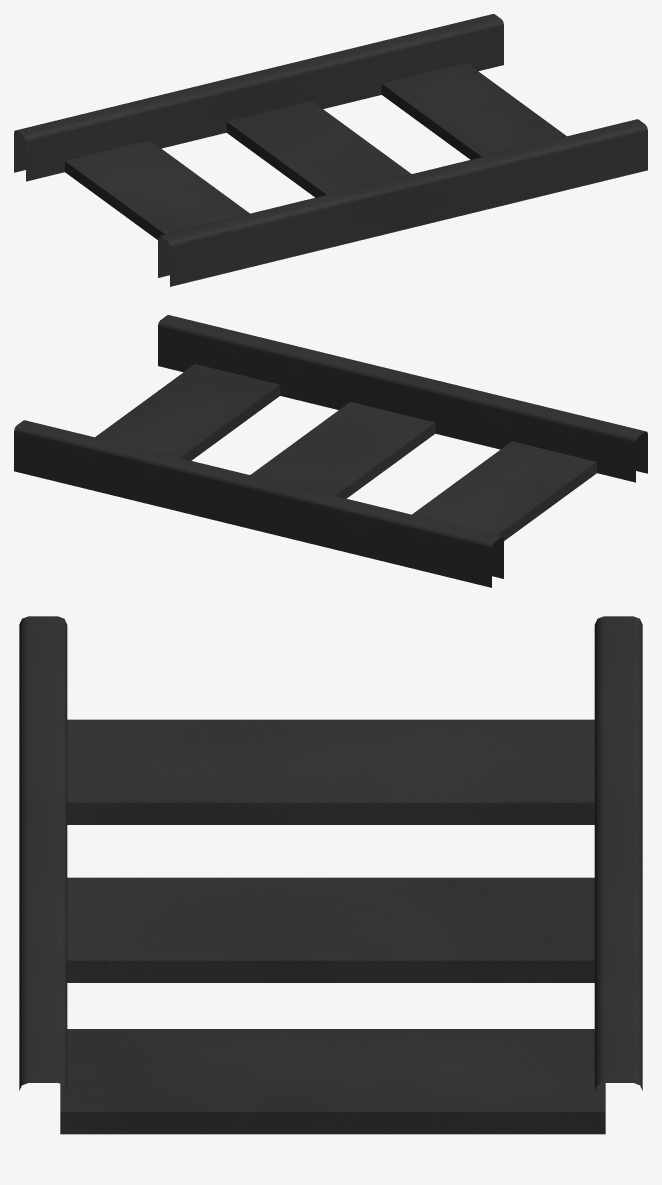
Rendered from TrainRailway.obj.
3 renders of one model, top to bottom at view 1: azimuth 30°, elevation 25°; view 2: azimuth 150°, elevation 25°; view 3: azimuth 270°, elevation 25°, orthographic. The views are drawn at different scales.
Visible parts, largest first — view 1: TrainRailway_polySurface16SG, TrainRailway_polySurface17SG, TrainRailway_polySurface14SG, TrainRailway_polySurface15SG, TrainRailway_polySurface13SG; view 2: TrainRailway_polySurface17SG, TrainRailway_polySurface16SG, TrainRailway_polySurface14SG, TrainRailway_polySurface15SG, TrainRailway_polySurface13SG; view 3: TrainRailway_polySurface14SG, TrainRailway_polySurface13SG, TrainRailway_polySurface15SG, TrainRailway_polySurface16SG, TrainRailway_polySurface17SG.
Boxes of the visible parts, x1,y1,x2,y2 form: TrainRailway_polySurface16SG: (158, 119, 647, 286); TrainRailway_polySurface17SG: (14, 14, 503, 181); TrainRailway_polySurface14SG: (381, 63, 566, 159); TrainRailway_polySurface15SG: (65, 140, 249, 239); TrainRailway_polySurface13SG: (226, 101, 411, 197); TrainRailway_polySurface17SG: (14, 420, 503, 587); TrainRailway_polySurface16SG: (158, 315, 647, 482); TrainRailway_polySurface14SG: (95, 364, 280, 460); TrainRailway_polySurface15SG: (412, 441, 596, 540); TrainRailway_polySurface13SG: (250, 402, 435, 498); TrainRailway_polySurface14SG: (60, 1029, 605, 1134); TrainRailway_polySurface13SG: (67, 877, 594, 982); TrainRailway_polySurface15SG: (67, 719, 594, 824); TrainRailway_polySurface16SG: (19, 616, 67, 1090); TrainRailway_polySurface17SG: (594, 616, 642, 1090).
Size of the model in its own units: 17.21 by 1.51 by 9.72.
Materials: 5 (5 with a texture image).
